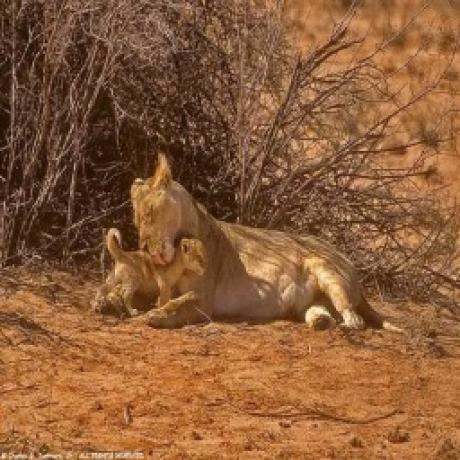Lion: (132, 147, 388, 335), (101, 224, 209, 316)
